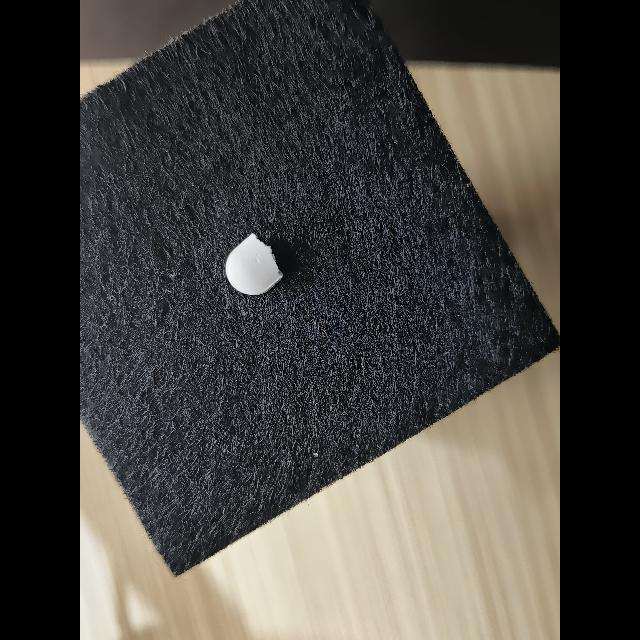Chipped Pill: (226, 233, 283, 295)
